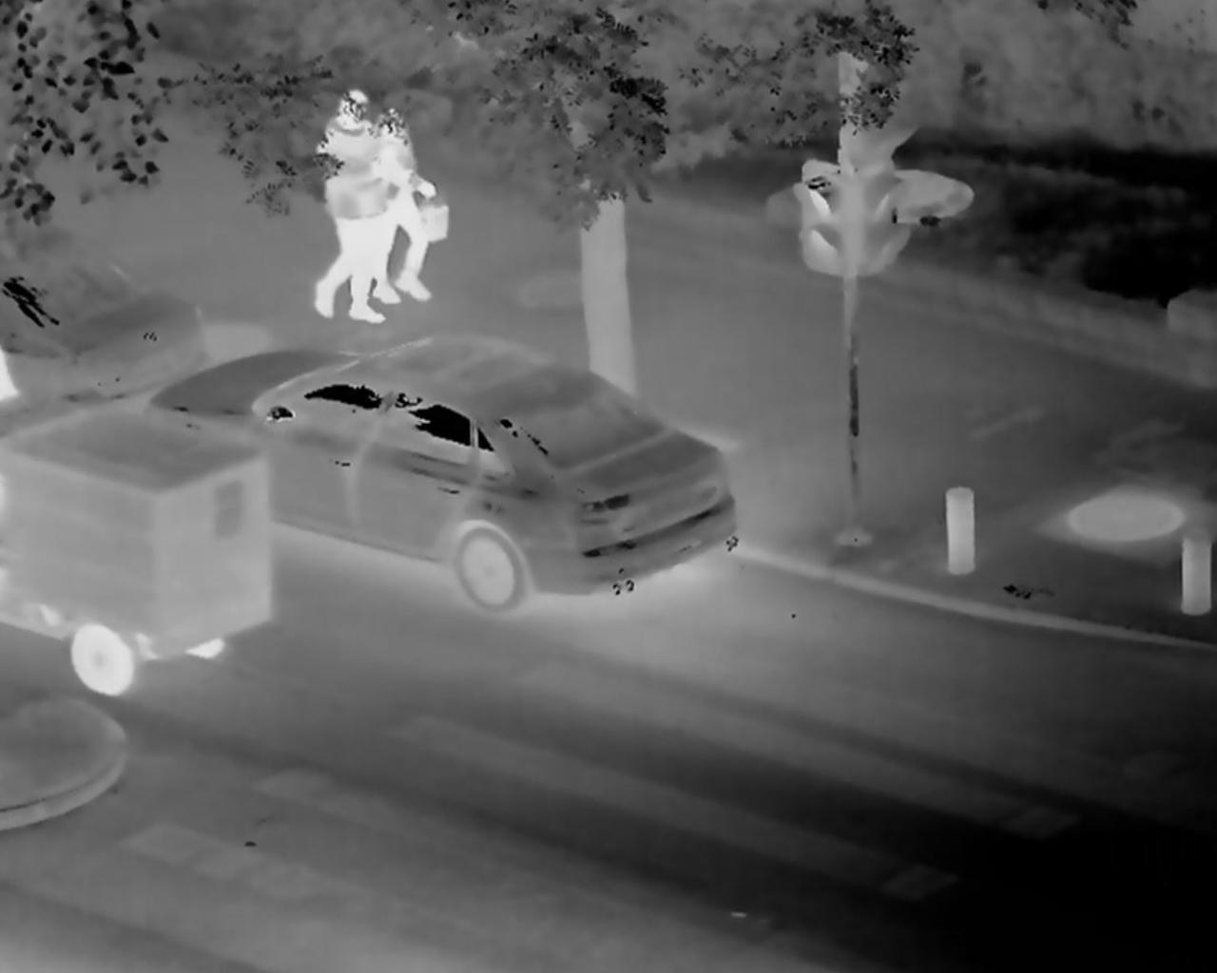person: (317, 87, 387, 333), (388, 111, 443, 316)
